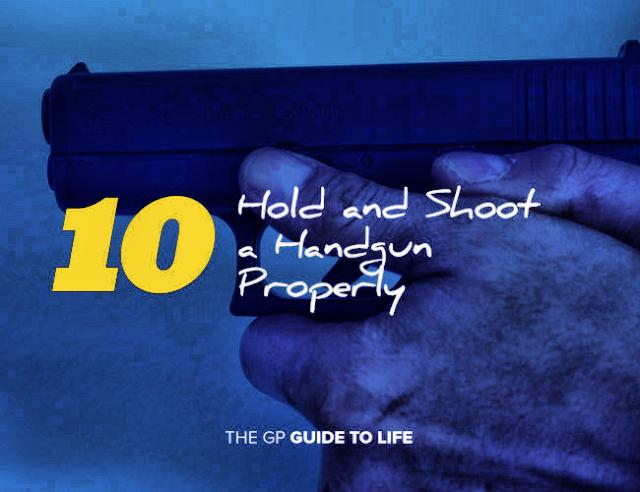pistol: (36, 44, 634, 390)
